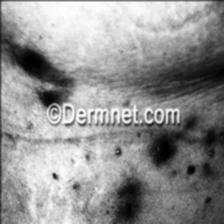Non-Cancerous Skin Condition: (111, 178, 135, 224), (26, 48, 44, 80), (148, 138, 168, 162)
